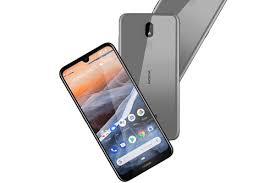nokia: (56, 42, 175, 180)
